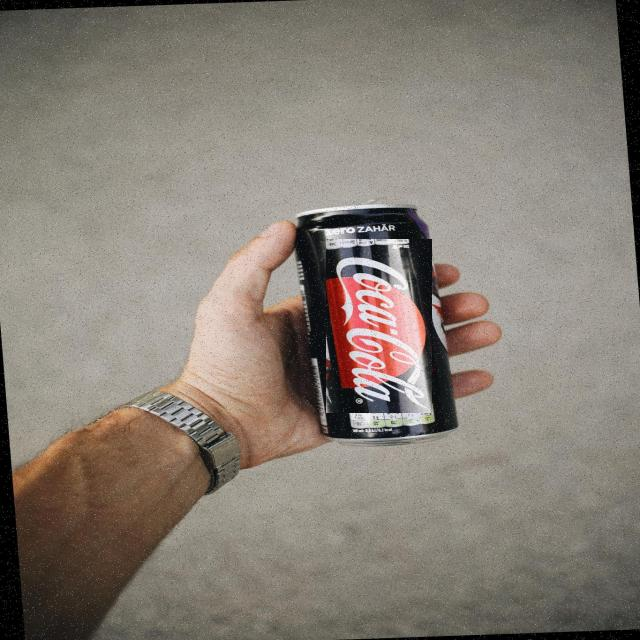coca-cola: (326, 239, 432, 413)
